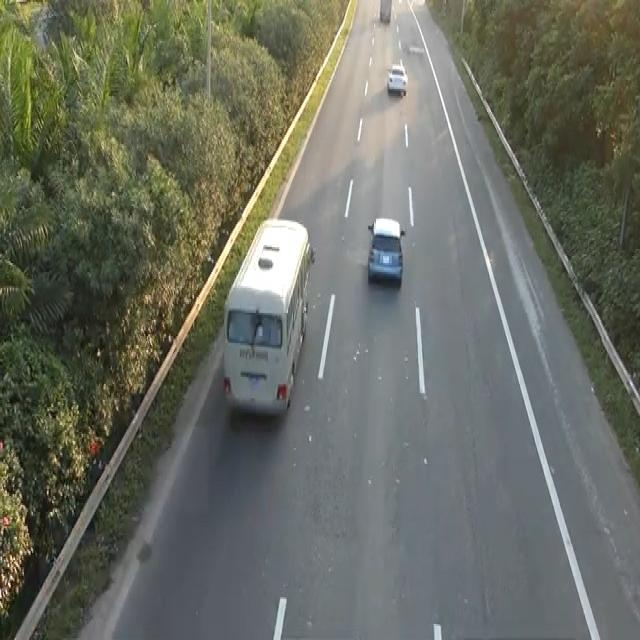bus: (366, 214, 406, 286)
jeep: (220, 213, 315, 420)
